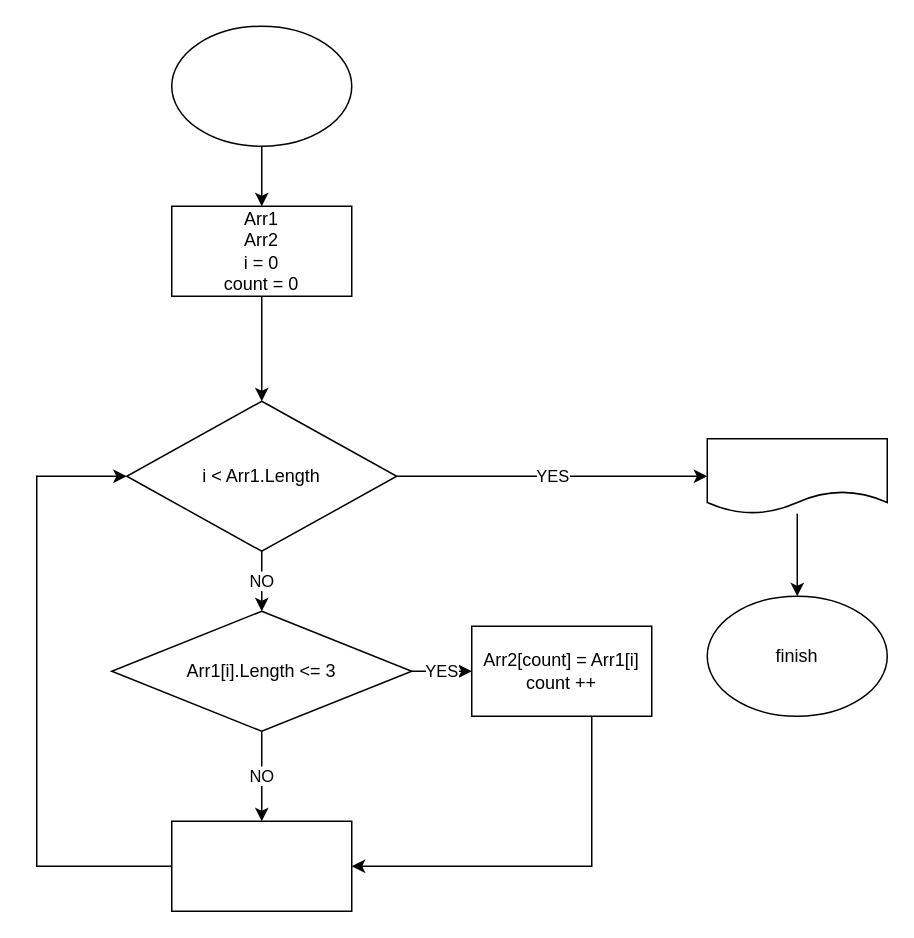
This 914x938 diagram has some shape labels left out. Each missing label, with the centre of its shape:
"Arr2" belongs at pixel 796 475.
"i++" belongs at pixel 261 865.
"start" belongs at pixel 261 85.
